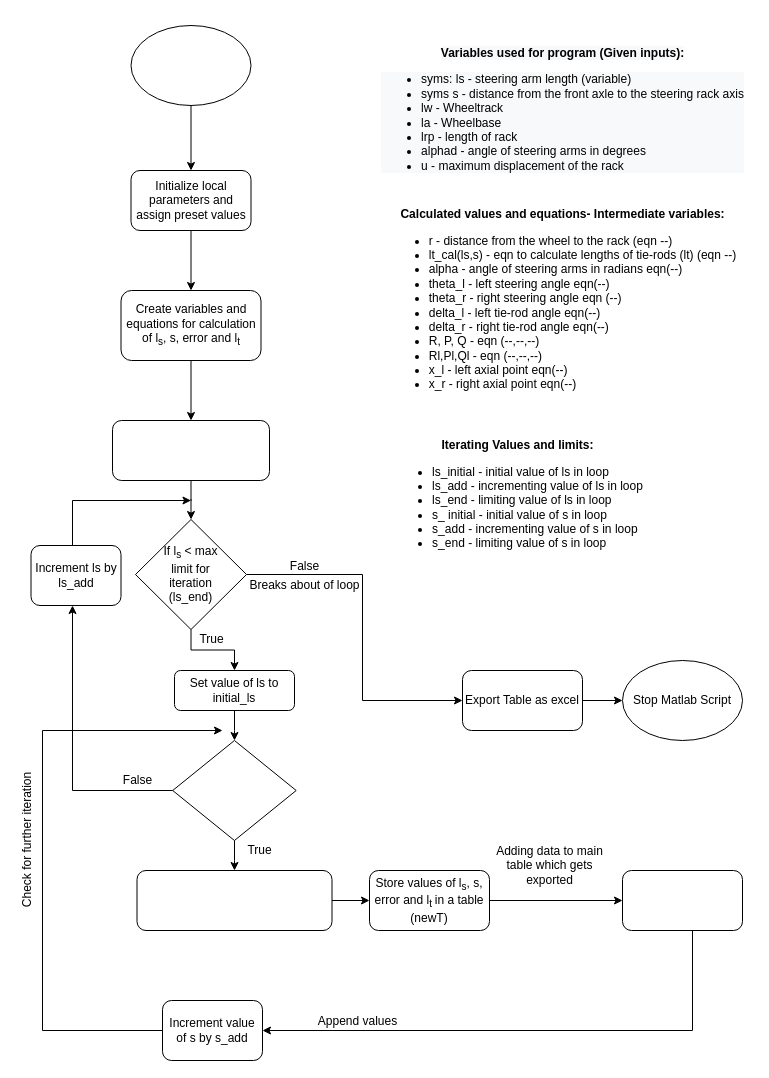
Image size: 769x1078. Some labels were removed from this diagram. The centre of each missing label's shape, as x and y in pixels:
Append values of newT to existing Table: (x=682, y=900)
Calculate l t and absolute value of error based on current values of l s and s: (x=234, y=900)
If s < max limit for iteration (s_end): (x=234, y=790)
Set Initial value of l s and s (l s = Initial_l s and s = initial_s): (x=191, y=450)
Start MATLAB Script: (x=190, y=65)
